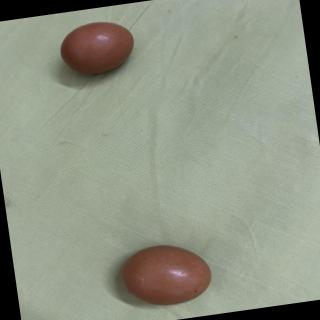Telur: (113, 236, 221, 314), (56, 16, 142, 80)
